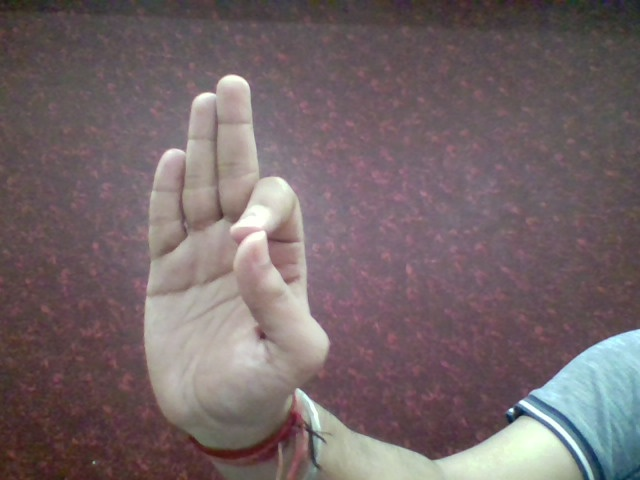f: (129, 66, 333, 434)
